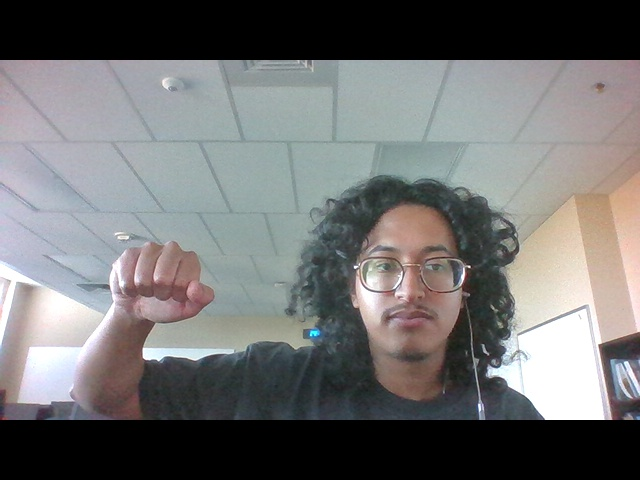yes: (86, 229, 238, 334)
